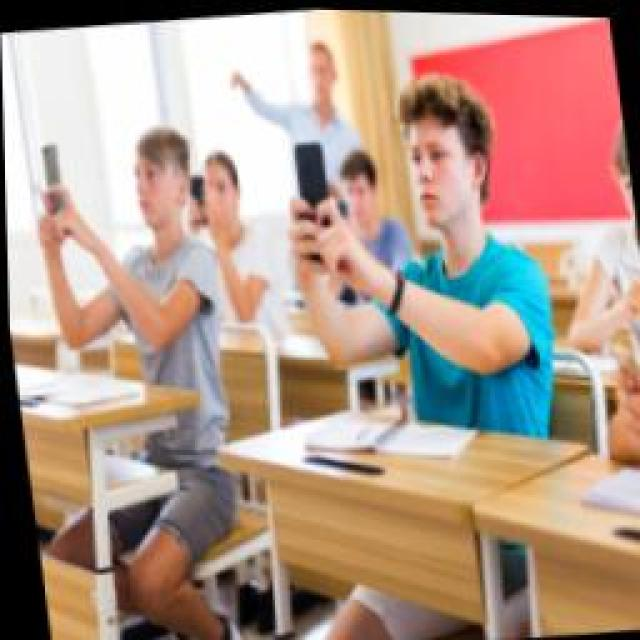phone: (268, 67, 558, 455), (23, 117, 225, 395), (180, 140, 282, 332), (325, 142, 410, 268)
